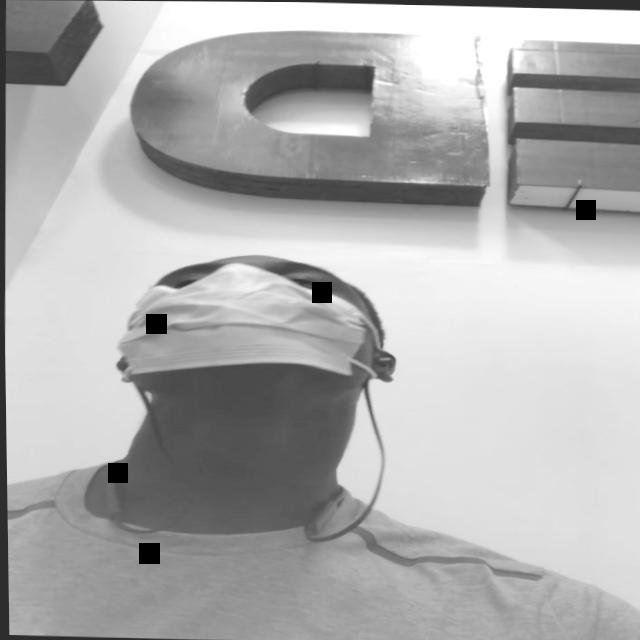Mask: (113, 250, 385, 407)
